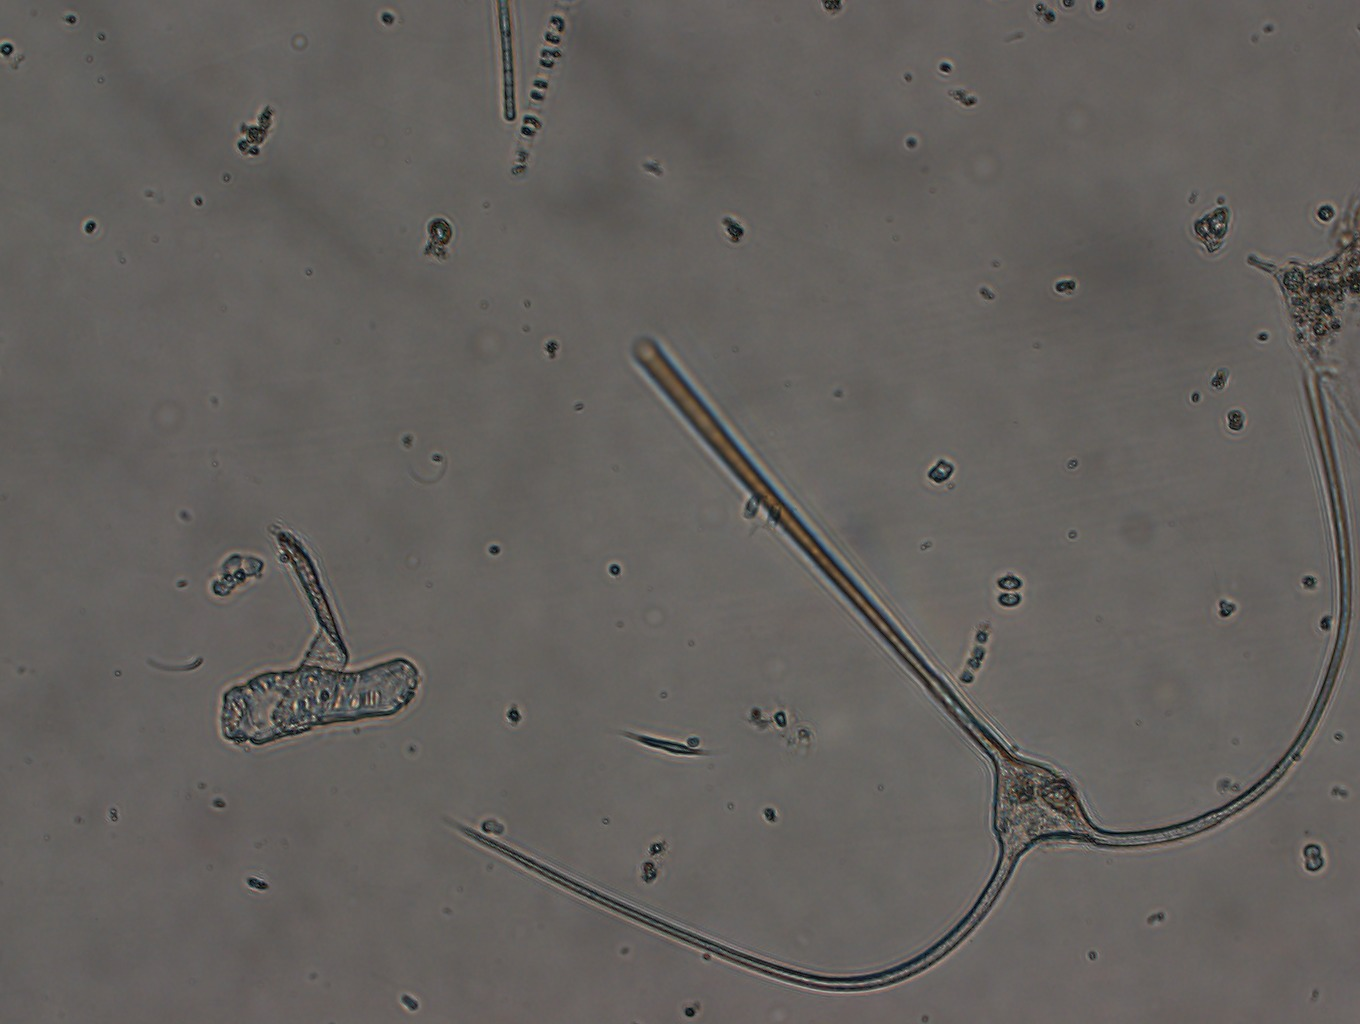ceratium trichoceros: (444, 333, 1354, 995)
skeletonema: (509, 1, 564, 184)
